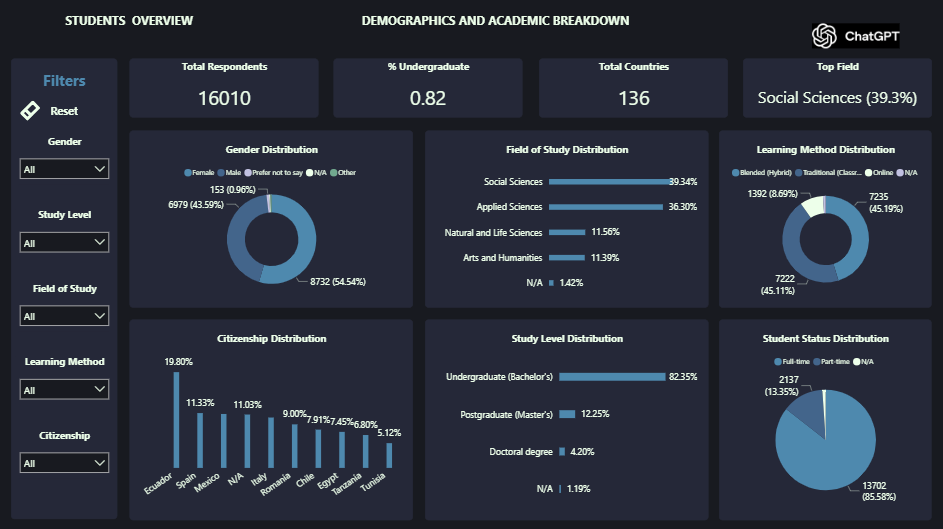

The dashboard page shown, as its layout file describes it:
{"tool":"powerbi","page":{"name":"Student Overvieew","canvas":[1280,720],"ordinal":0},"visuals":[{"type":"pieChart","title":" Student Status Distribution","fields":{"Y":["df_socio.Total_Students"],"Category":["df_socio.Student_Status"]},"box":[976,432,288,272],"z":8031},{"type":"clusteredBarChart","title":" Study Level Distribution","fields":{"Category":["df_socio.Study_Level"],"Y":["Divide(df_socio.Total_Students, ScopedEval(df_socio.Total_Students, []))"]},"box":[576,432,384,272],"z":8062},{"type":"columnChart","title":" Citizenship Distribution","fields":{"Category":["df_socio.Citizenship"],"Y":["df_socio.Total_Students"]},"box":[176,432,384,272],"z":8125},{"type":"donutChart","title":" Learning Method Distribution","fields":{"Y":["df_socio.Total_Students"],"Category":["df_socio.Learning_Method"]},"box":[976,176,288,240],"z":8250},{"type":"barChart","title":" Field of Study Distribution","fields":{"Category":["df_socio.Field_of_Study"],"Y":["df_socio.Total_Students"]},"box":[576,176,384,240],"z":8375},{"type":"donutChart","title":" Gender Distribution","fields":{"Category":["df_socio.Gender"],"Y":["df_socio.Total_Students"]},"box":[176,176,384,240],"z":8500},{"type":"card","title":"Top Field","fields":{"Values":["df_socio.Top_Field_KPI"]},"box":[1008,80,256,80],"z":9000},{"type":"card","title":"Total Countries","fields":{"Values":["df_socio.Total_Country"]},"box":[730.7,80,256,80],"z":9500},{"type":"card","title":"% Undergraduate","fields":{"Values":["Sum(df_socio.% Undergraduate)"]},"box":[453.3,80,256,80],"z":10000},{"type":"card","title":"Total Respondents","fields":{"Values":["df_socio.Total_Students"]},"box":[176,80,256,80],"z":10500},{"type":"shape","box":[16,80,144,624],"z":11000},{"type":"slicer","title":"Citizenship","fields":{"Values":["df_socio.Citizenship"]},"box":[22,580,132,70],"z":12500},{"type":"slicer","title":"Learning Method","fields":{"Values":["df_socio.Learning_Method"]},"box":[22,480,132,70],"z":17000},{"type":"slicer","title":"Field of Study","fields":{"Values":["df_socio.Field_of_Study"]},"box":[22,380,132,70],"z":17250},{"type":"slicer","title":"Study Level","fields":{"Values":["df_socio.Study_Level"]},"box":[22,280,132,70],"z":17500},{"type":"slicer","title":"Gender","fields":{"Values":["df_socio.Gender"]},"box":[22,180,132,70],"z":18000},{"type":"actionButton","box":[22,130,132,40],"z":19000},{"type":"textbox","title":"Filters","box":[16,96,144,32],"z":20000},{"type":"image","box":[1056,16,208,64],"z":20500},{"type":"textbox","box":[416,16,512,48],"z":20750},{"type":"textbox","box":[16,16,320,48],"z":21000}]}

Visuals, with their boxes in screenshot pixels (x1, y1, x2, y2), scaled from the page's 1280x720 canvas onto the 943x529 screenshot:
" Student Status Distribution" pieChart: BBox(719, 317, 931, 517)
" Study Level Distribution" clusteredBarChart: BBox(424, 317, 707, 517)
" Citizenship Distribution" columnChart: BBox(130, 317, 413, 517)
" Learning Method Distribution" donutChart: BBox(719, 129, 931, 306)
" Field of Study Distribution" barChart: BBox(424, 129, 707, 306)
" Gender Distribution" donutChart: BBox(130, 129, 413, 306)
"Top Field" card: BBox(743, 59, 931, 118)
"Total Countries" card: BBox(538, 59, 727, 118)
"% Undergraduate" card: BBox(334, 59, 523, 118)
"Total Respondents" card: BBox(130, 59, 318, 118)
shape: BBox(12, 59, 118, 517)
"Citizenship" slicer: BBox(16, 426, 113, 478)
"Learning Method" slicer: BBox(16, 353, 113, 404)
"Field of Study" slicer: BBox(16, 279, 113, 331)
"Study Level" slicer: BBox(16, 206, 113, 257)
"Gender" slicer: BBox(16, 132, 113, 184)
actionButton: BBox(16, 96, 113, 125)
"Filters" textbox: BBox(12, 71, 118, 94)
image: BBox(778, 12, 931, 59)
textbox: BBox(306, 12, 684, 47)
textbox: BBox(12, 12, 248, 47)
